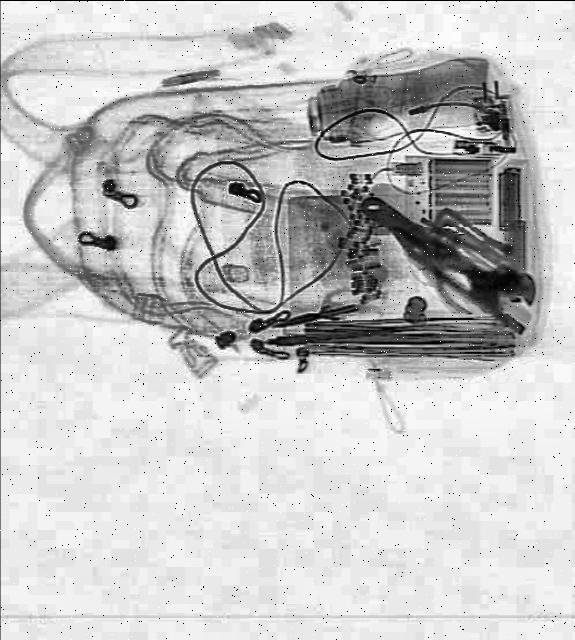Wrench: (346, 185, 542, 329)
